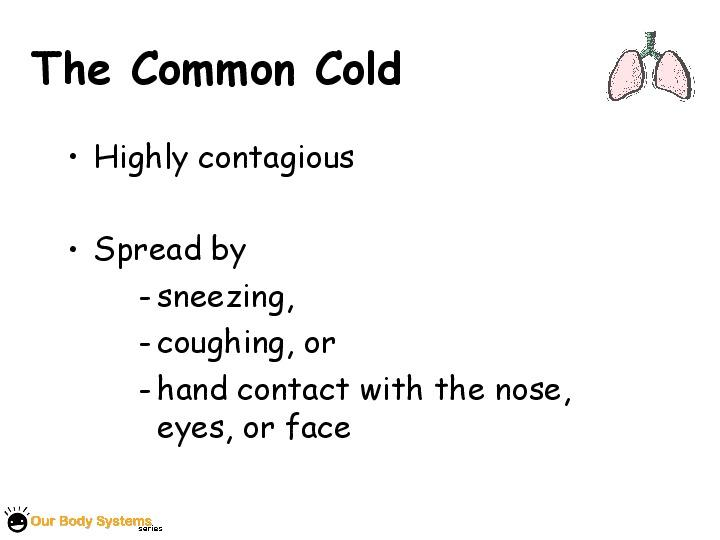paragraph: (59, 127, 634, 479)
title: (27, 29, 406, 106)
